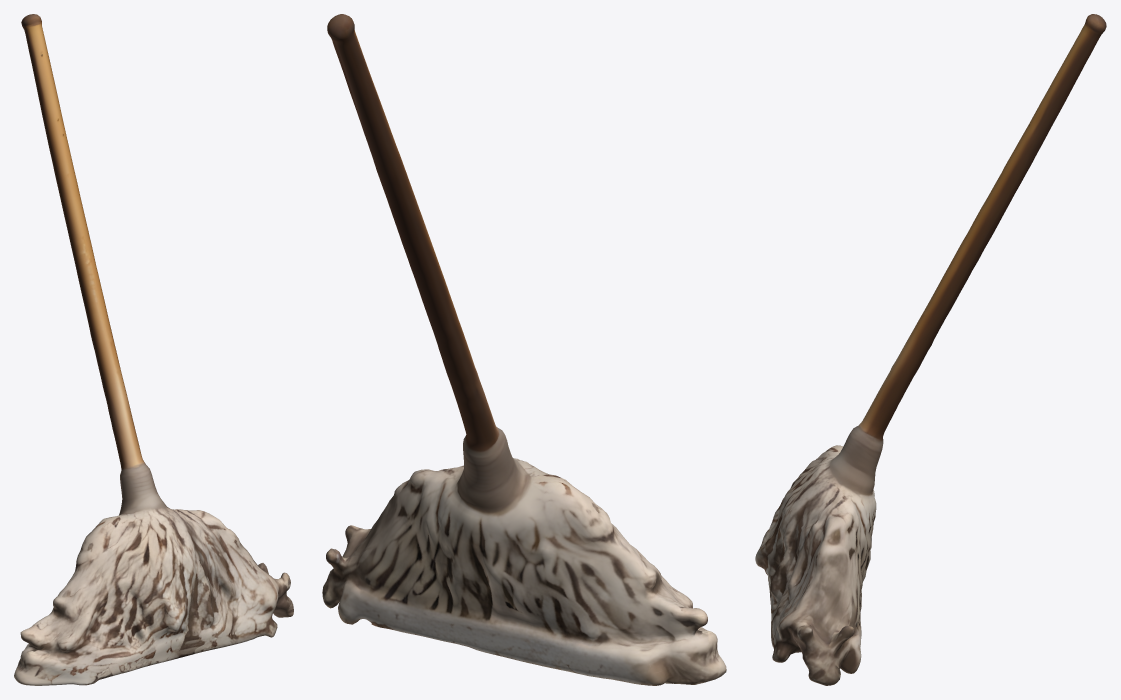
The model's file is Mop.glb.
The picture shows the model from 3 angles, left to right: view 1: azimuth 30°, elevation 25°; view 2: azimuth 150°, elevation 25°; view 3: azimuth 270°, elevation 25°; orthographic projection. The views are drawn at different scales.
Parts seen in each view (by area): view 1: model; view 2: model; view 3: model.
Part boxes in pixels (x1,y1,x2,y2): model: [14, 14, 293, 685]; model: [322, 14, 726, 685]; model: [755, 14, 1106, 685].
Bounding box in the file's own units: 10.18 × 18.95 × 10.02.
1 material, 1 textured.
